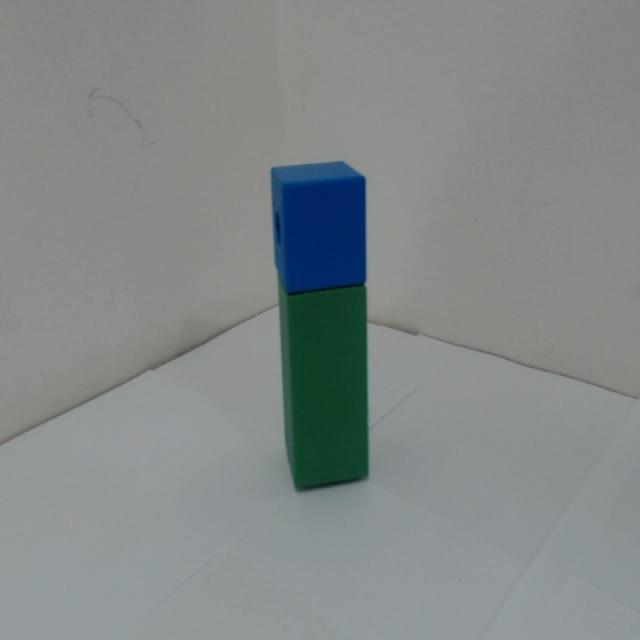cube: (278, 282, 396, 531), (265, 131, 391, 306)
